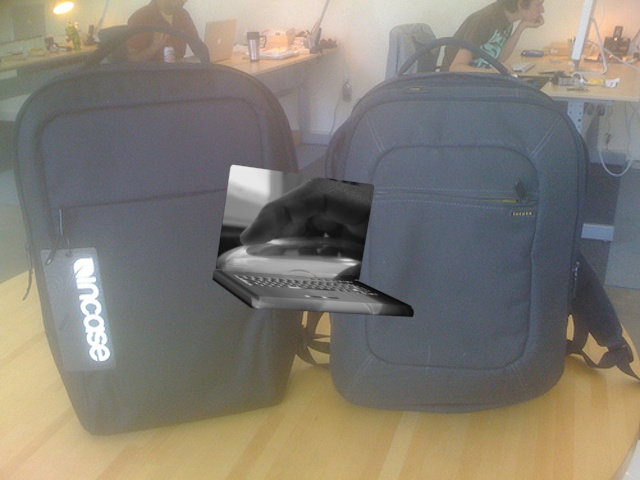laptop_computer: (209, 161, 416, 320)
